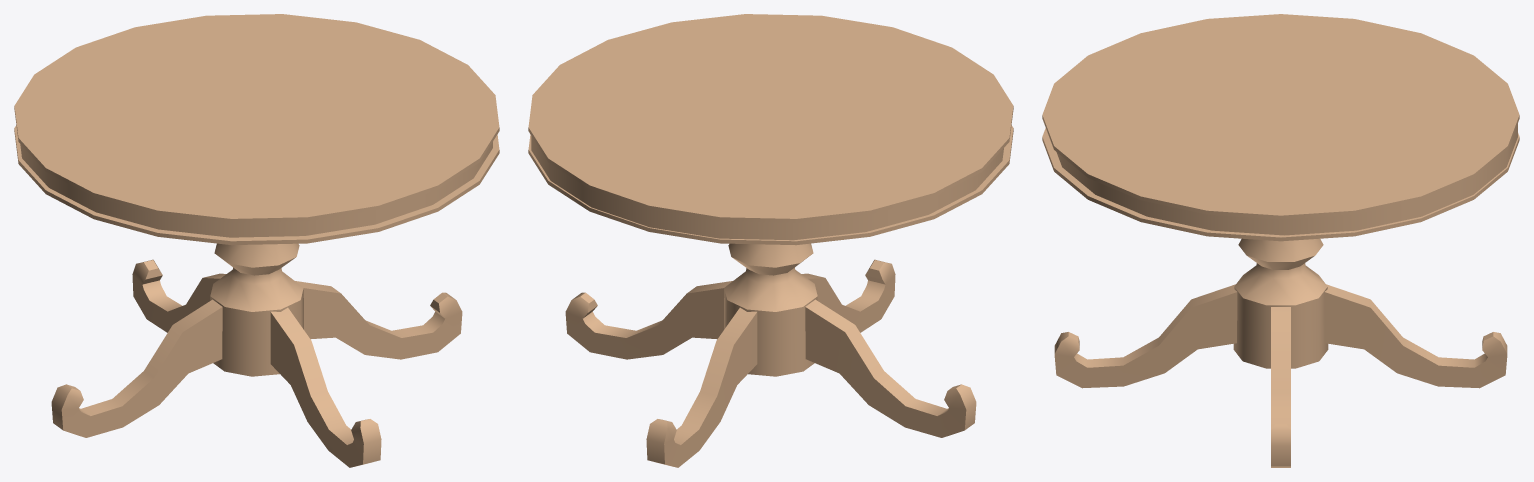
File: table-round.glb
The picture shows the model from 3 angles, left to right: view 1: azimuth 30°, elevation 25°; view 2: azimuth 150°, elevation 25°; view 3: azimuth 270°, elevation 25°; orthographic projection. The views are drawn at different scales.
Parts seen in each view (by area): view 1: Table_RoundSmall2; view 2: Table_RoundSmall2; view 3: Table_RoundSmall2.
Boxes of the visible parts, <box> form: Table_RoundSmall2: <box>14,14,499,467</box>; Table_RoundSmall2: <box>528,14,1013,467</box>; Table_RoundSmall2: <box>1042,14,1519,467</box>.
Bounding box in the file's own units: 1.94 × 1.21 × 1.94.
